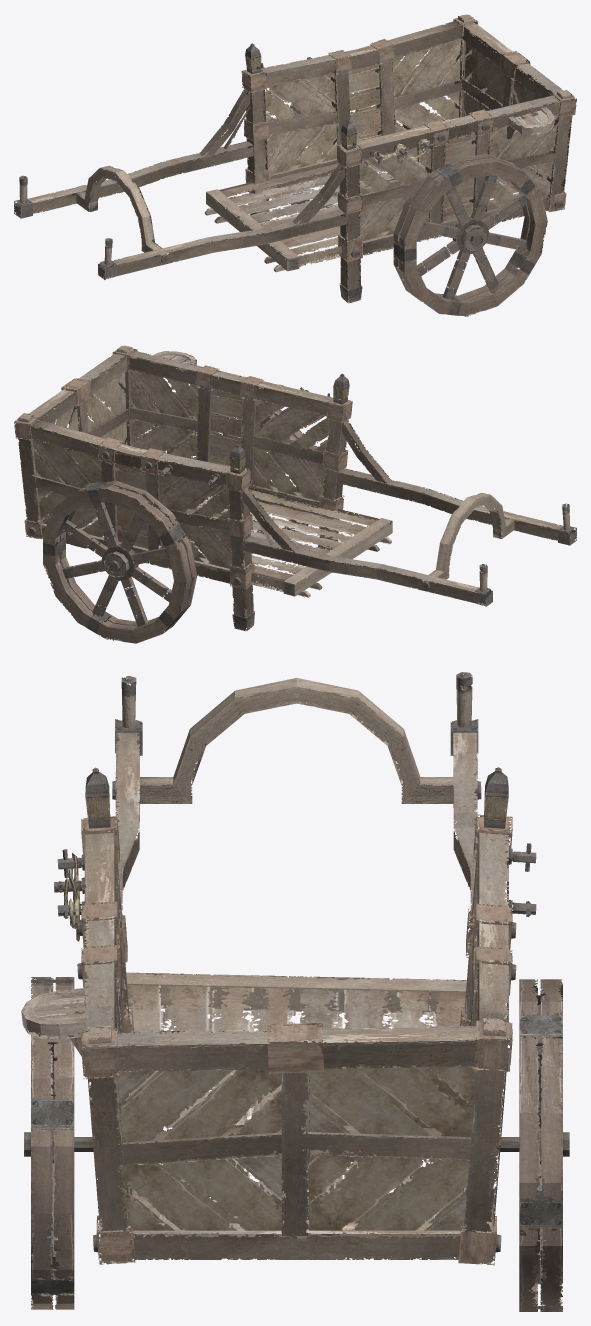
Rendered from bg_anh_delphiinn_wagon01_sm_old.FBX.
The picture shows the model from 3 angles, top to bottom: view 1: azimuth 30°, elevation 25°; view 2: azimuth 150°, elevation 25°; view 3: azimuth 270°, elevation 25°; orthographic projection. The views are drawn at different scales.
Visible parts, largest first — view 1: bg_anh_delphiinn_wagon01_sm_old; view 2: bg_anh_delphiinn_wagon01_sm_old; view 3: bg_anh_delphiinn_wagon01_sm_old.
Boxes of the visible parts, x1,y1,x2,y2 form: bg_anh_delphiinn_wagon01_sm_old: [14, 14, 576, 316]; bg_anh_delphiinn_wagon01_sm_old: [14, 345, 576, 643]; bg_anh_delphiinn_wagon01_sm_old: [21, 672, 569, 1311].
Bounding box in the file's own units: 207 × 90.58 × 106.
